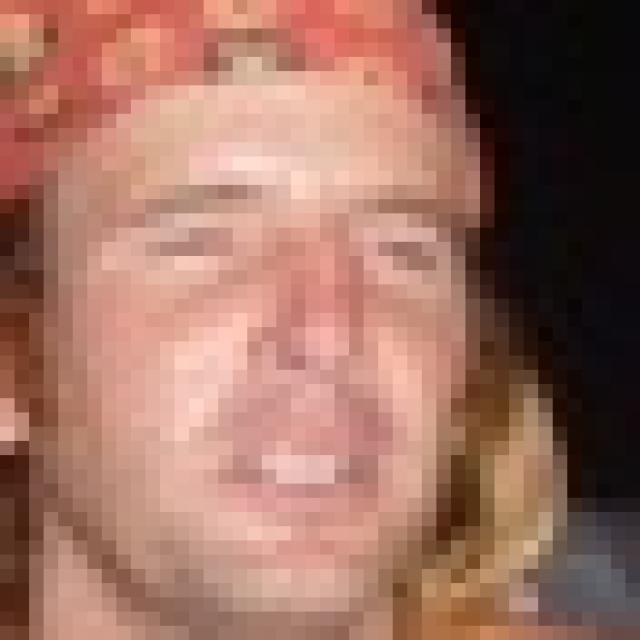Eyeclosed: (147, 218, 236, 268), (379, 232, 445, 277)
